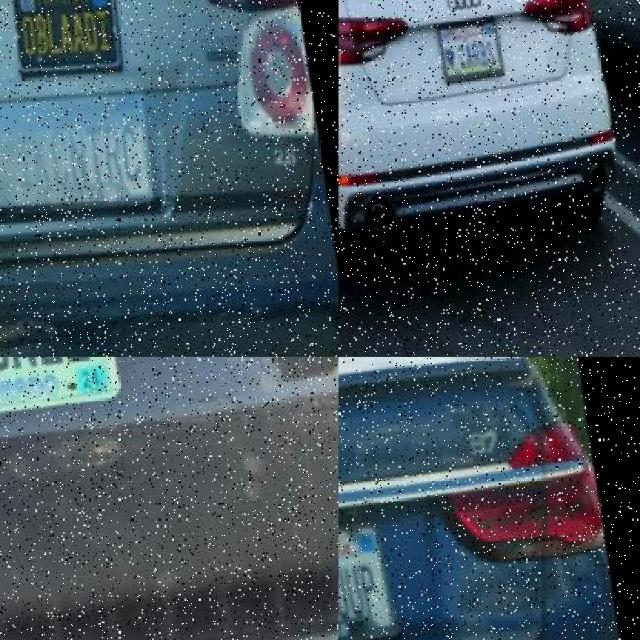licenseplate: (338, 509, 412, 640), (7, 0, 130, 75), (437, 3, 508, 79)
